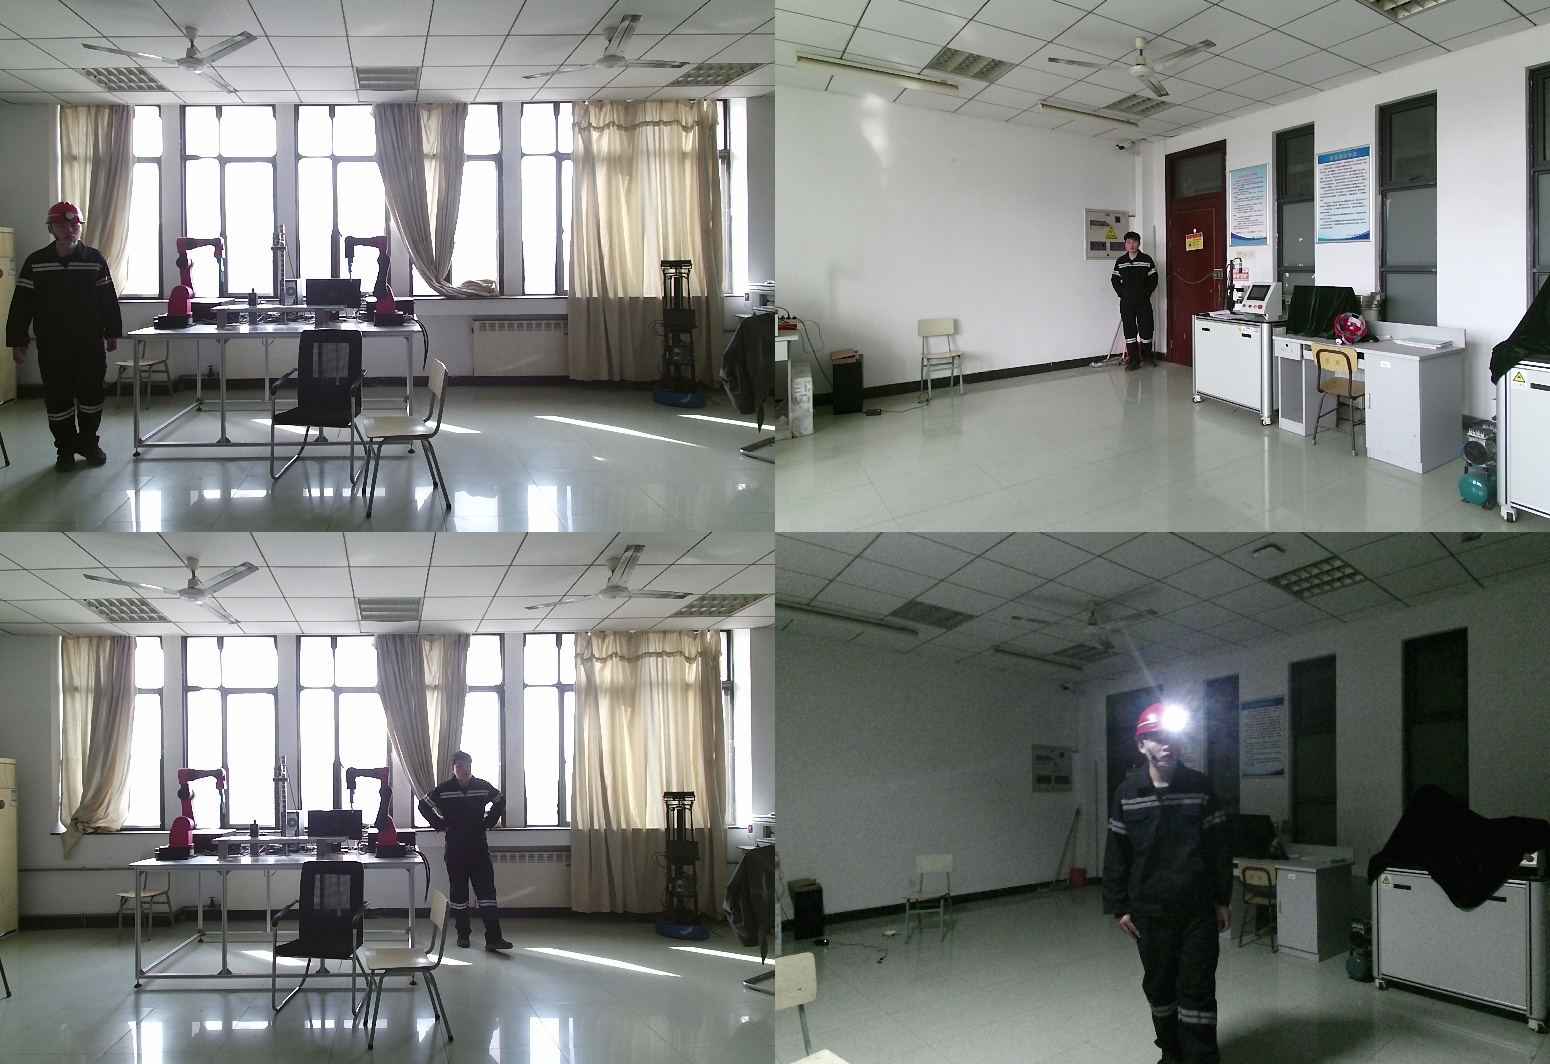person: (1101, 704, 1247, 1064), (5, 205, 124, 474), (420, 751, 515, 957), (1111, 232, 1163, 374)
